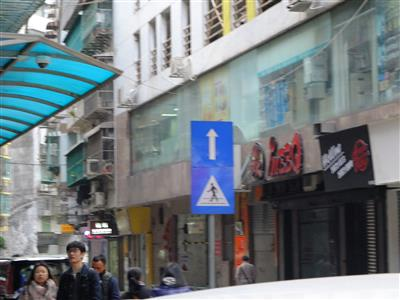oneway: (187, 116, 235, 168)
pedestrianCrossing: (188, 164, 238, 216)
